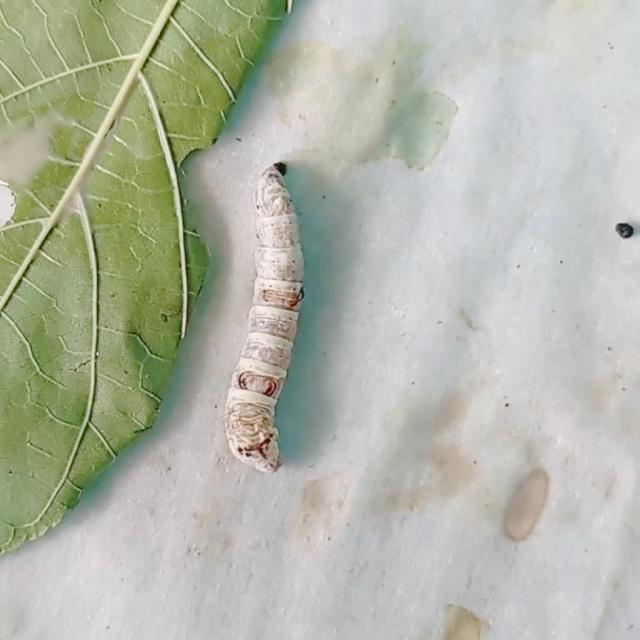Grasserie: (193, 128, 348, 515)
